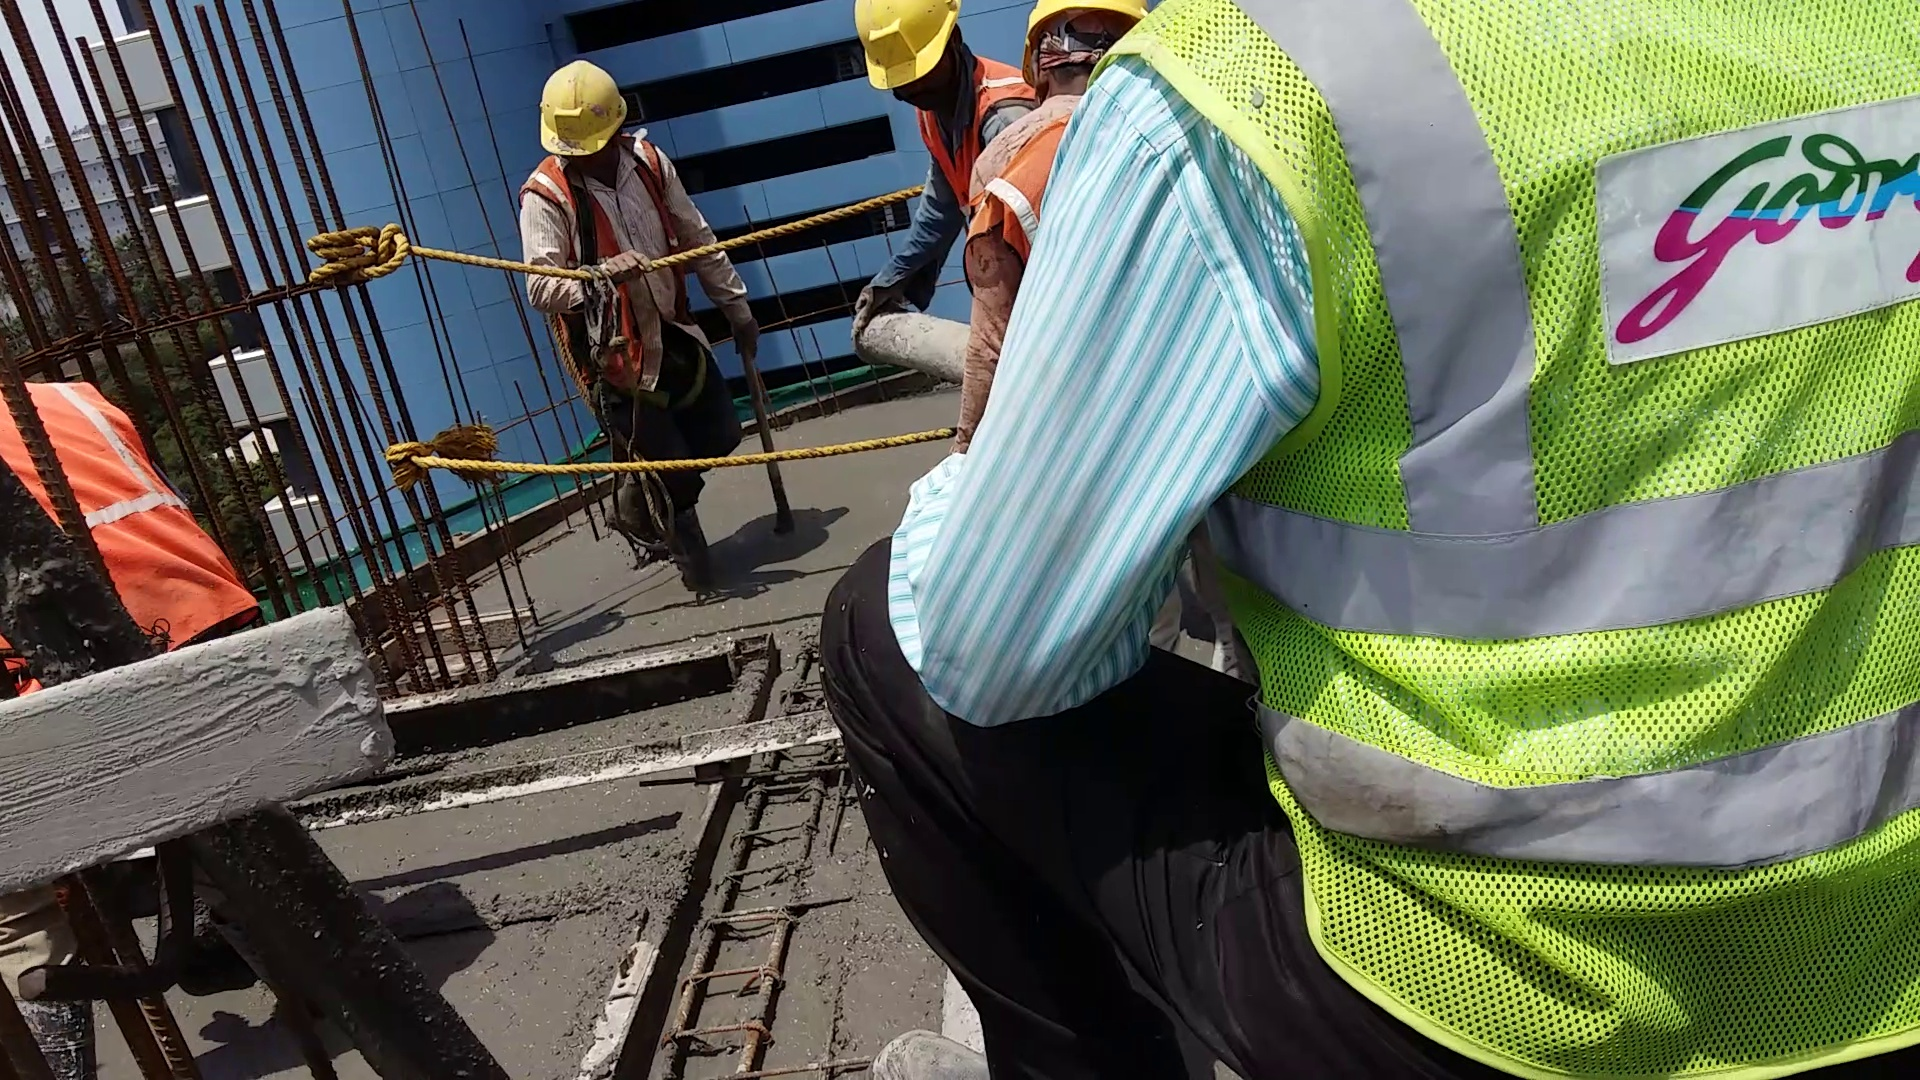SAFE: (526, 51, 684, 382), (851, 5, 978, 223)
